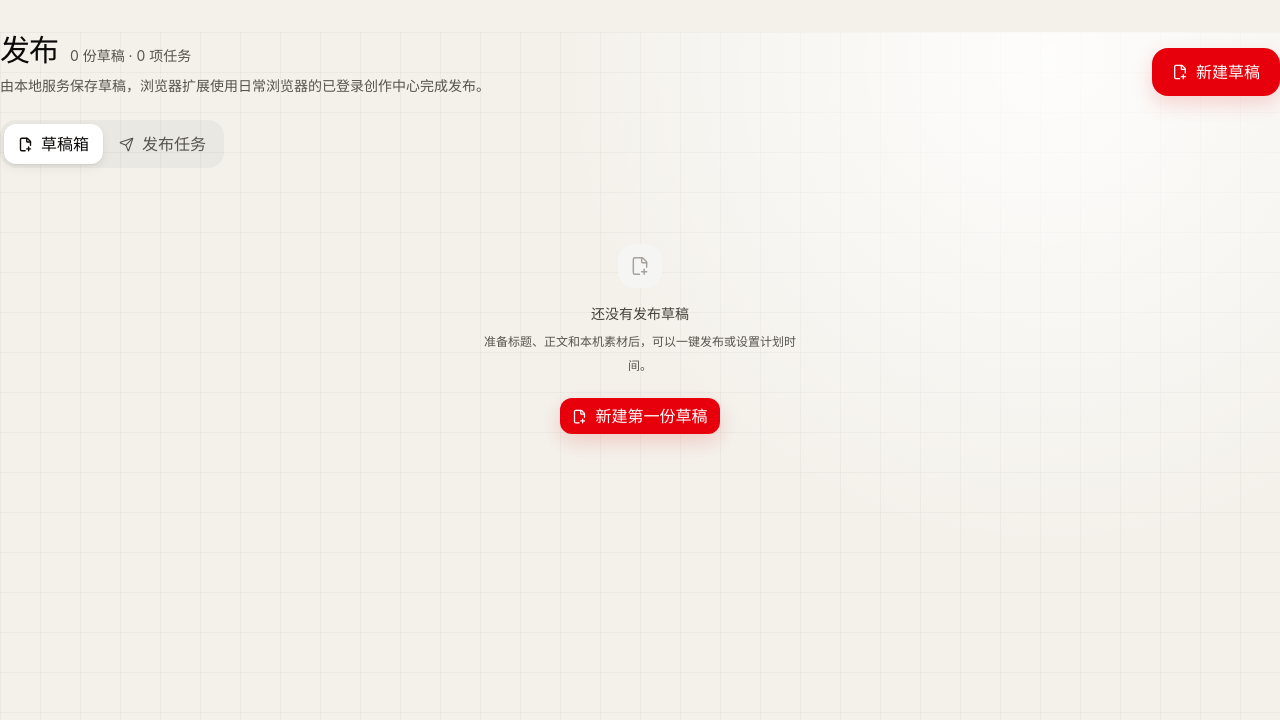
Test case: 发布中心界面 › 从空状态新建草稿后直接进编辑框
Click the button "新建第一份草稿": (640, 416) [560,398,720,434]
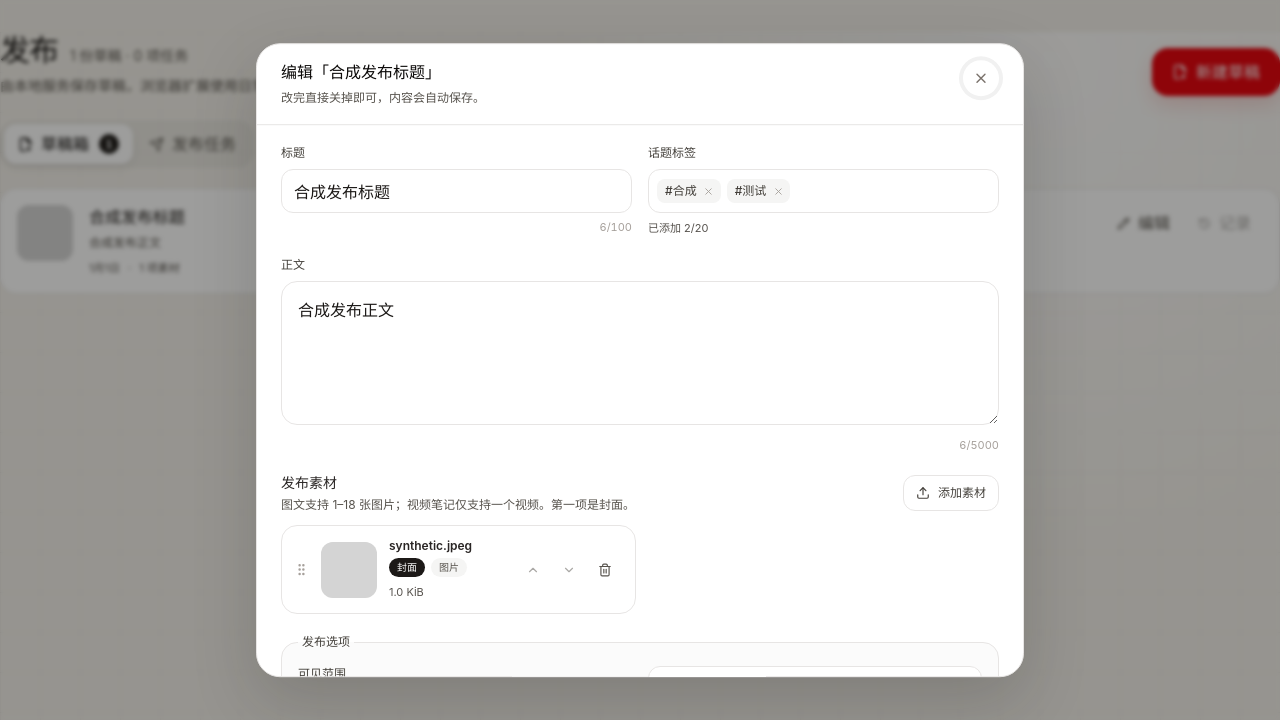
Expected: the field labelled "标题" holds "合成发布标题", [281,169,632,213]
